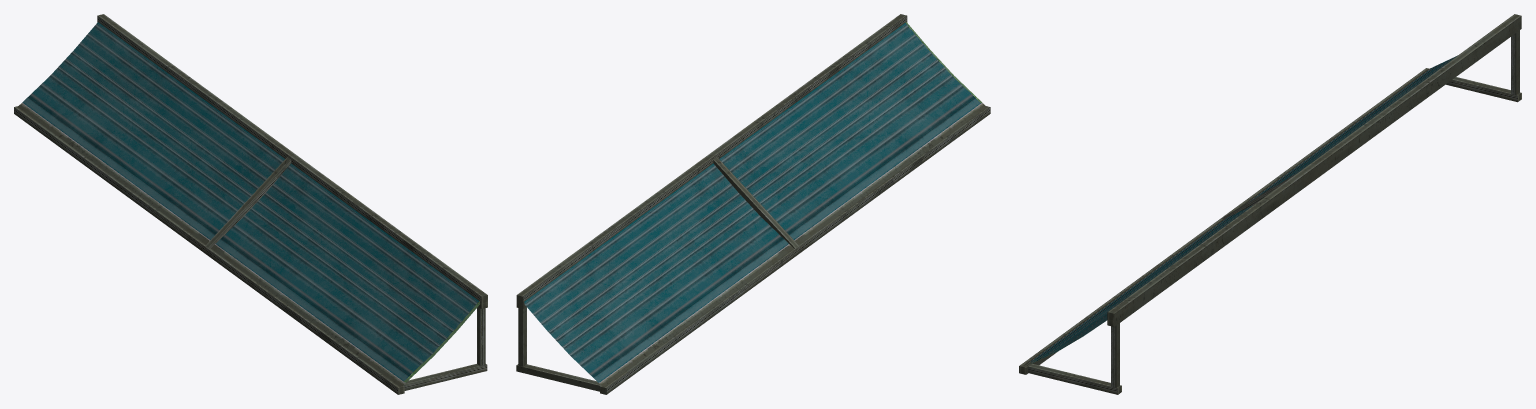
File: CP_Canopy_03.fbx
3 renders of one model, left to right at view 1: azimuth 30°, elevation 25°; view 2: azimuth 150°, elevation 25°; view 3: azimuth 330°, elevation 25°, orthographic. The views are drawn at different scales.
Parts seen in each view (by area): view 1: CP_Canopy_03; view 2: CP_Canopy_03; view 3: CP_Canopy_03.
Part boxes in pixels (left/top/right/bottom): CP_Canopy_03: left=14, top=14, right=487, bottom=394; CP_Canopy_03: left=516, top=14, right=990, bottom=394; CP_Canopy_03: left=1019, top=14, right=1521, bottom=394.
Size of the model in its own units: 69.12 by 56.43 by 504.
